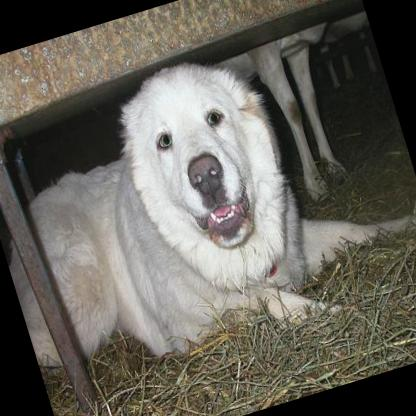Great_Pyrenees: (0, 5, 416, 397)
